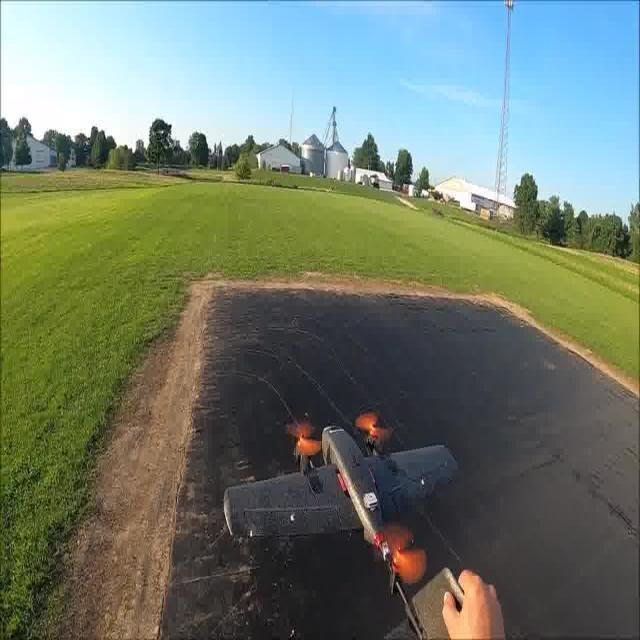iha: (218, 409, 454, 592)
